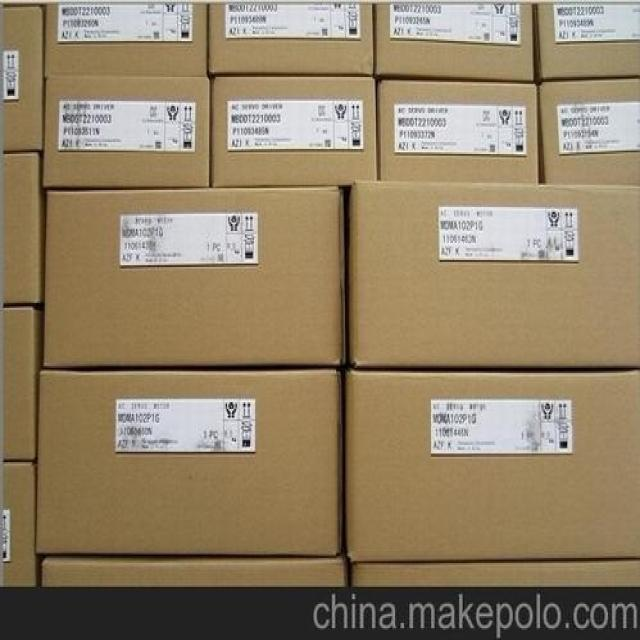box: (35, 370, 344, 554), (342, 371, 640, 561), (42, 185, 344, 368), (348, 181, 640, 368), (42, 77, 210, 188), (212, 75, 377, 185), (377, 82, 540, 183), (375, 0, 535, 82), (208, 0, 373, 74), (44, 0, 206, 75), (539, 77, 640, 183), (41, 556, 348, 589), (535, 0, 640, 80), (351, 563, 640, 587), (0, 152, 44, 306), (0, 308, 42, 460), (0, 7, 44, 152), (0, 464, 41, 589)
